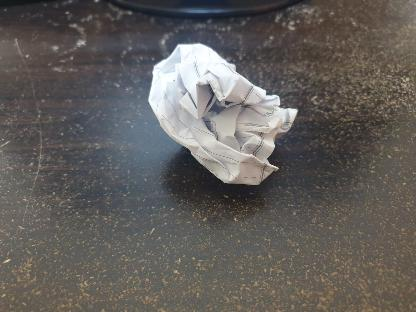Paper: (145, 38, 291, 196)
